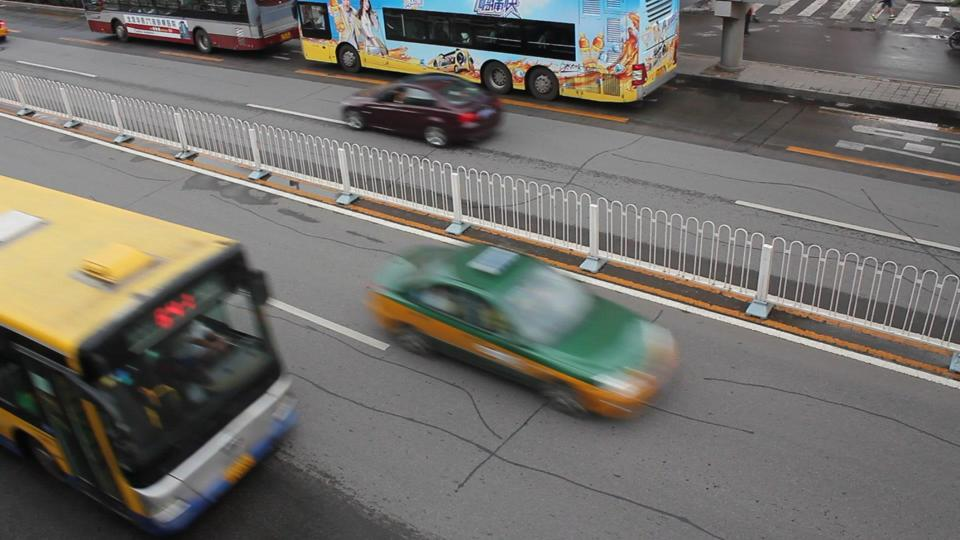bus: (1, 178, 305, 532), (293, 0, 684, 106), (82, 0, 297, 55)
car: (360, 243, 682, 420), (340, 72, 505, 147), (0, 19, 8, 42)
